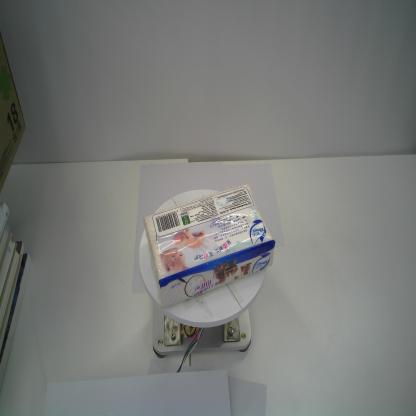Tissue: (143, 182, 277, 311)
